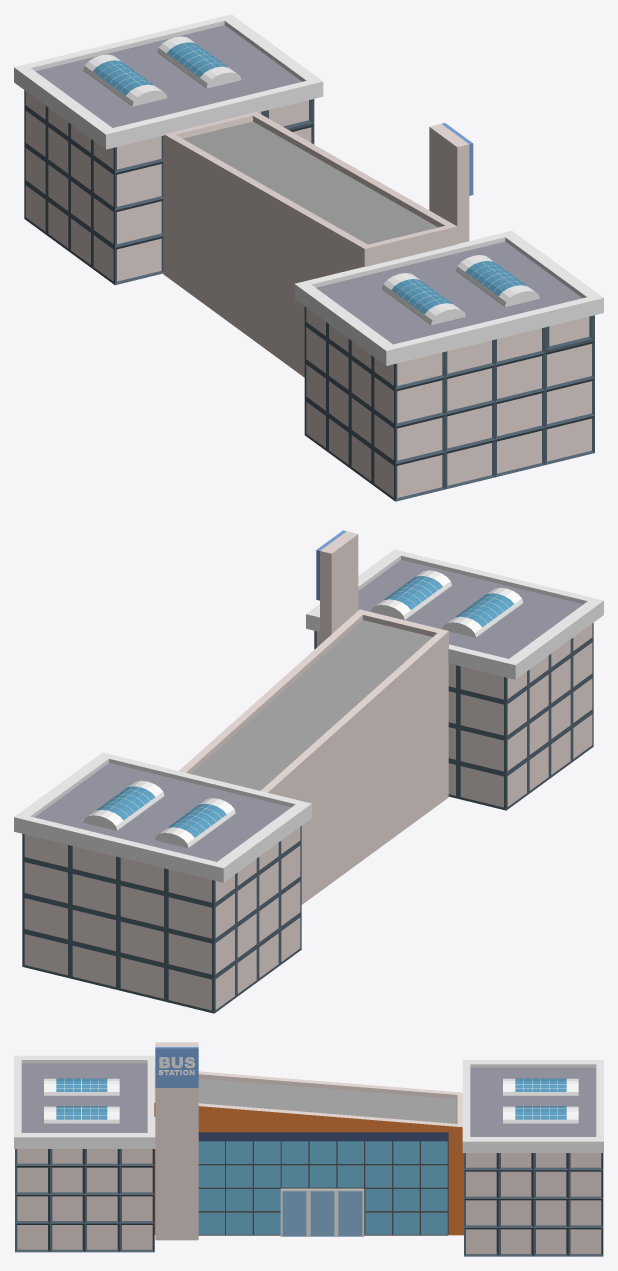
File: Bus_Station_tran.glb
The picture shows the model from 3 angles, top to bottom: view 1: azimuth 30°, elevation 25°; view 2: azimuth 150°, elevation 25°; view 3: azimuth 270°, elevation 25°; orthographic projection. The views are drawn at different scales.
Parts seen in each view (by area): view 1: Cube.13659; view 2: Cube.13659; view 3: Cube.13659.
Boxes of the visible parts, x1,y1,x2,y2 form: Cube.13659: (14, 14, 603, 501); Cube.13659: (14, 530, 603, 1013); Cube.13659: (14, 1042, 603, 1256).
Size of the model in its own units: 0.271 by 0.2857 by 0.7867.
